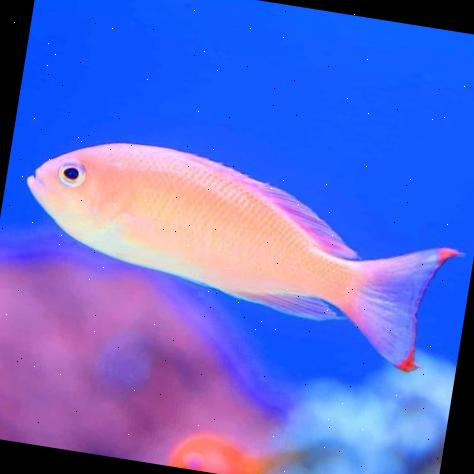fish: (7, 128, 474, 379)
